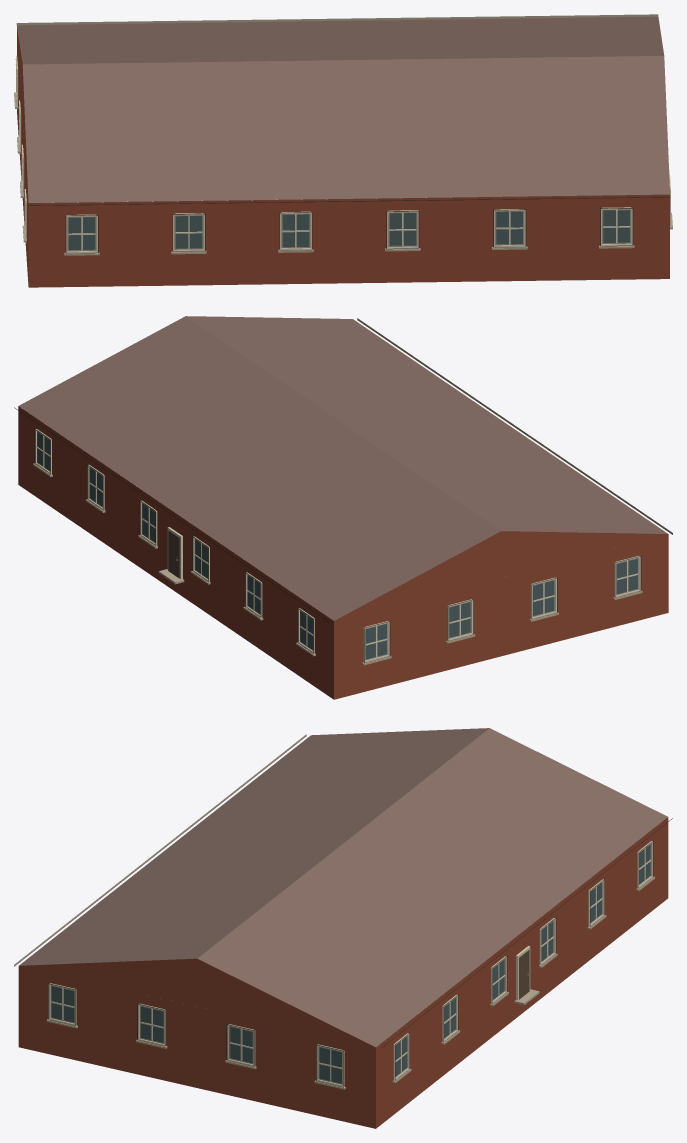
3 views of the same model, one above another, from view 1: azimuth 30°, elevation 25°; view 2: azimuth 150°, elevation 25°; view 3: azimuth 270°, elevation 25° (orthographic). The views are drawn at different scales.
Parts seen in each view (by area): view 1: -3_-6_609781267_0; view 2: -3_-6_609781267_0; view 3: -3_-6_609781267_0.
Boxes of the visible parts, <box> form: -3_-6_609781267_0: <box>14,14,672,287</box>; -3_-6_609781267_0: <box>14,316,672,699</box>; -3_-6_609781267_0: <box>14,728,672,1128</box>.
Bounding box in the file's own units: 34.42 × 6.61 × 30.49.
